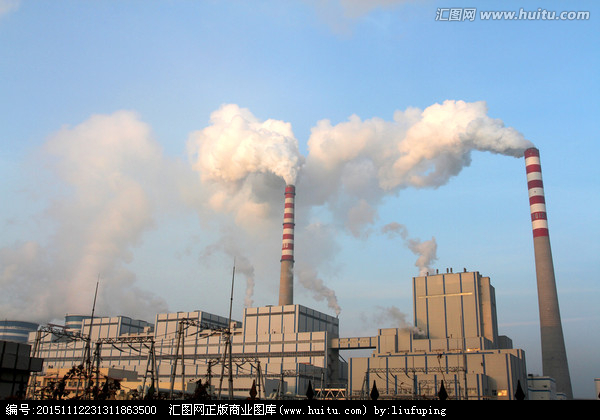dust: (29, 106, 158, 326), (208, 217, 382, 320), (185, 102, 313, 192), (376, 95, 541, 164), (392, 213, 446, 281)
